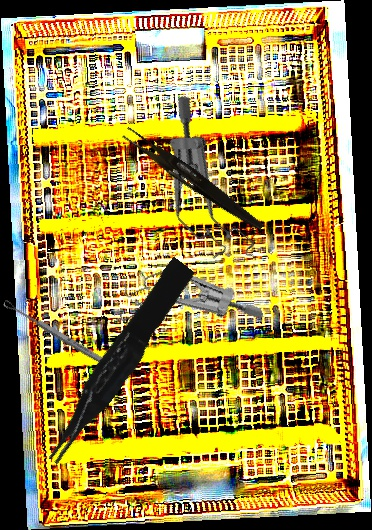Dressing Forceps: (118, 126, 269, 233)
Speculum: (115, 92, 300, 279), (104, 238, 265, 370)
Surgical Spoon: (2, 298, 120, 374)
Tissue Forceps: (31, 256, 204, 468)
